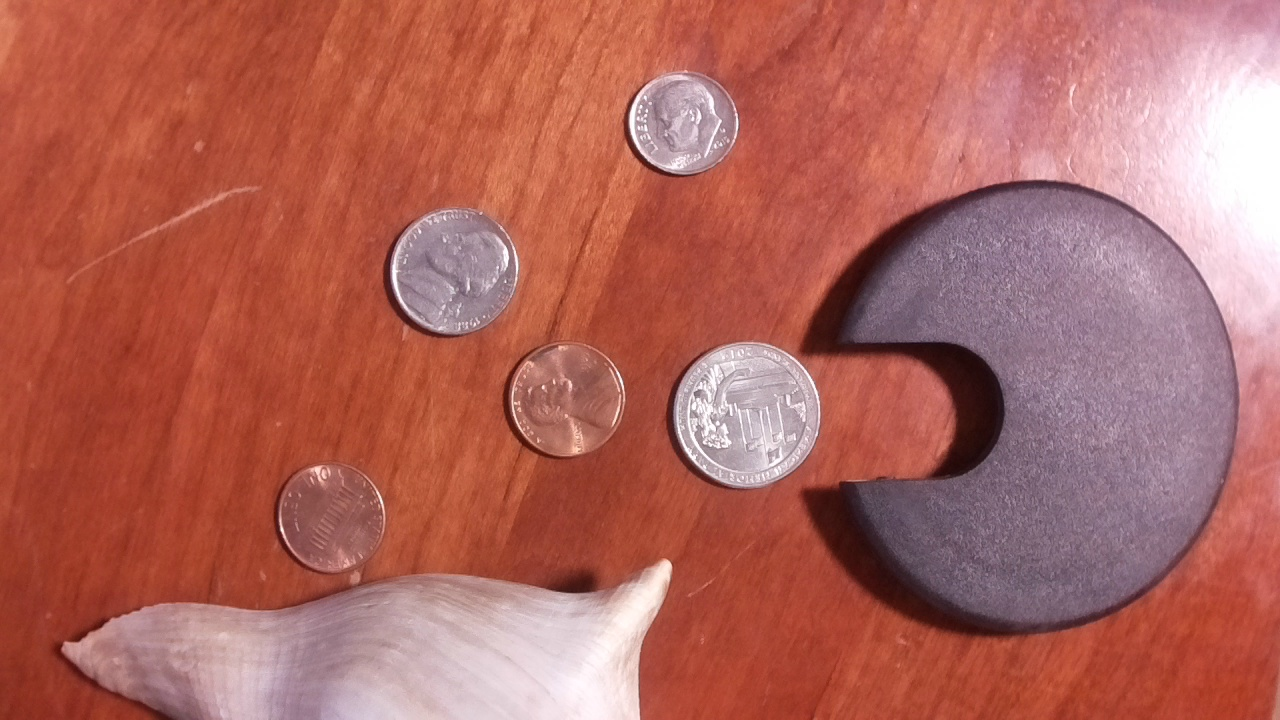dime: (620, 68, 746, 180)
nickel: (384, 199, 520, 345)
penny: (498, 337, 634, 461), (269, 454, 393, 586)
quarter: (676, 337, 820, 493)
